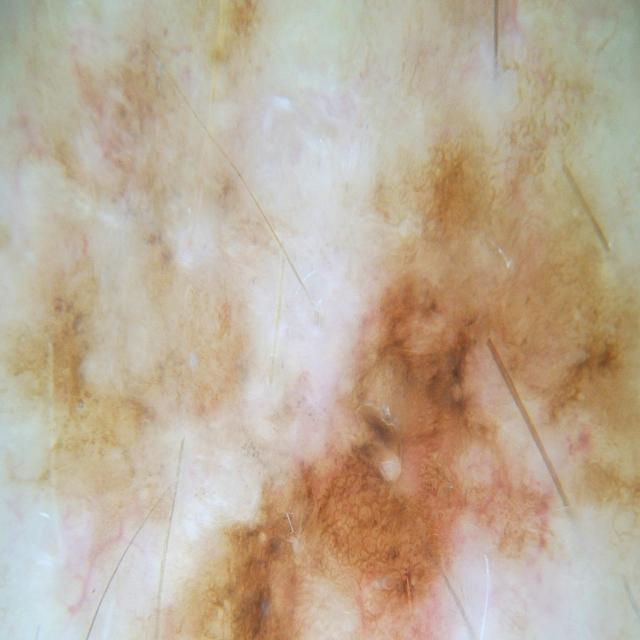Melanoma: (8, 77, 636, 640)
